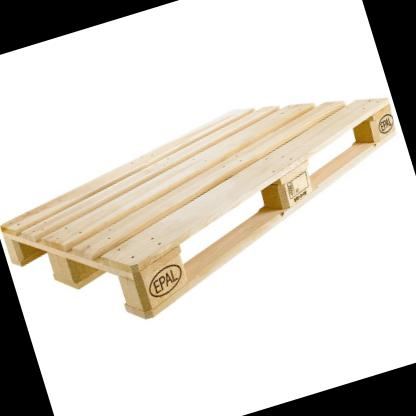BoxFace: (0, 98, 398, 320)
